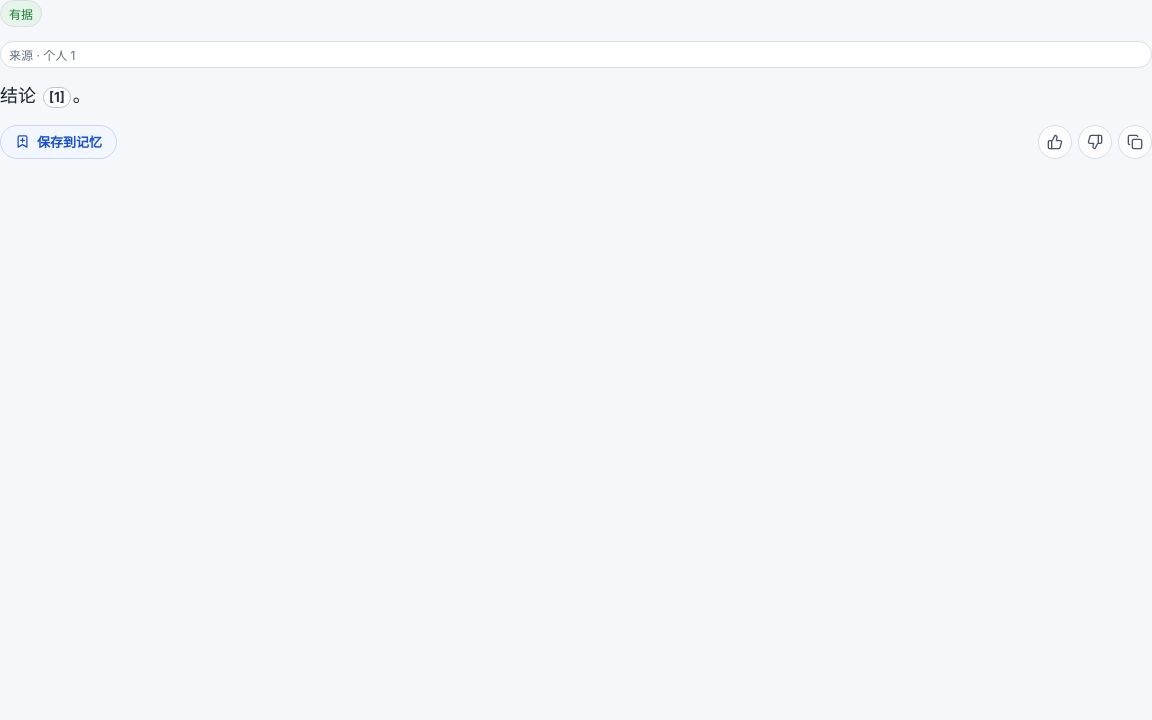
Scenario: 旧答案缺 images 字段时不插入附图区，其余引用仍可打开
The image size is (1152, 720).
Click the button "[1]".
click(57, 98)  # box [43, 87, 71, 108]
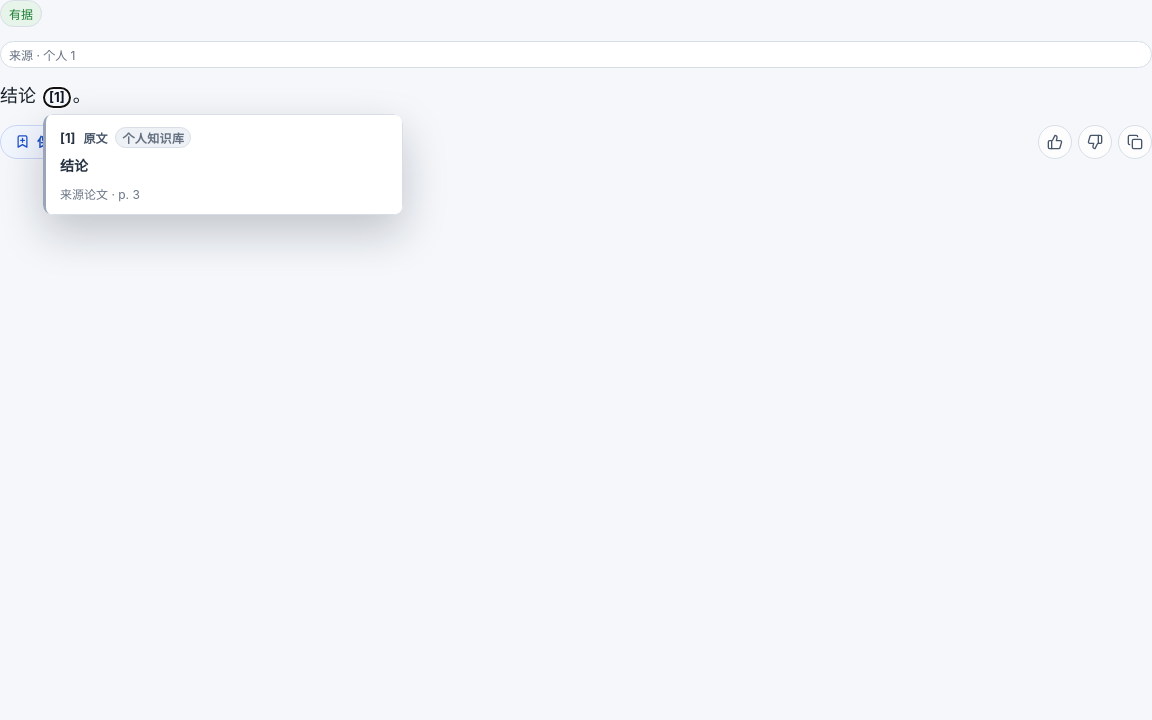
Result: the text "来源论文 · p. 3" is shown at [60, 187, 140, 202]
